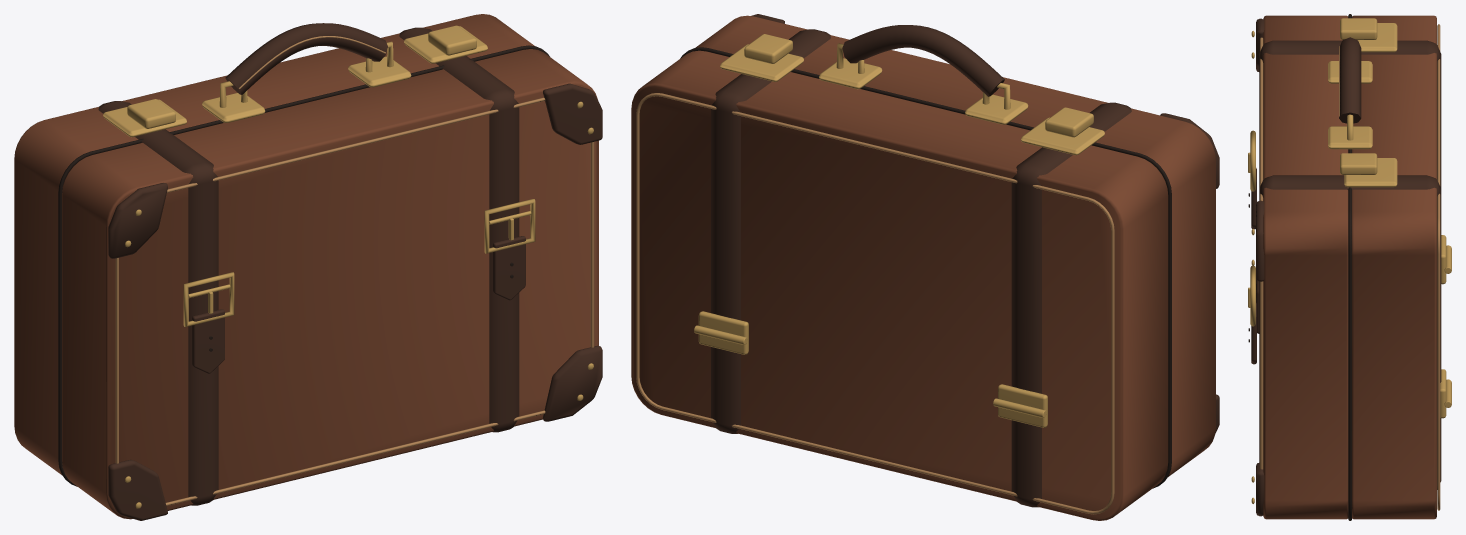
Rendered from P048_travel_suitcase_fresh.glb.
3 renders of one model, left to right at view 1: azimuth 30°, elevation 25°; view 2: azimuth 150°, elevation 25°; view 3: azimuth 270°, elevation 25°, orthographic. The views are drawn at different scales.
Visible parts, largest first — view 1: Suitcase_chestnut_leather, Suitcase_dark_leather_bindings, Suitcase_aged_brass_fittings, Suitcase_warm_seam_piping, Suitcase_joint_shadow; view 2: Suitcase_chestnut_leather, Suitcase_dark_leather_bindings, Suitcase_aged_brass_fittings, Suitcase_warm_seam_piping, Suitcase_joint_shadow; view 3: Suitcase_chestnut_leather, Suitcase_dark_leather_bindings, Suitcase_aged_brass_fittings, Suitcase_warm_seam_piping, Suitcase_joint_shadow.
Part boxes in pixels (x1,y1,x2,y2): Suitcase_chestnut_leather: [14, 14, 598, 519]; Suitcase_dark_leather_bindings: [98, 23, 602, 520]; Suitcase_aged_brass_fittings: [103, 25, 593, 508]; Suitcase_warm_seam_piping: [115, 36, 594, 505]; Suitcase_joint_shadow: [58, 45, 549, 486]; Suitcase_chestnut_leather: [631, 15, 1215, 520]; Suitcase_dark_leather_bindings: [711, 14, 1219, 507]; Suitcase_aged_brass_fittings: [694, 34, 1104, 427]; Suitcase_warm_seam_piping: [636, 93, 1114, 514]; Suitcase_joint_shadow: [680, 47, 1171, 488]; Suitcase_chestnut_leather: [1263, 15, 1436, 519]; Suitcase_dark_leather_bindings: [1251, 18, 1441, 516]; Suitcase_aged_brass_fittings: [1248, 18, 1451, 503]; Suitcase_warm_seam_piping: [1260, 24, 1440, 510]; Suitcase_joint_shadow: [1248, 14, 1351, 520].
Bounding box in the file's own units: 0.5635 × 0.447 × 0.2185.
